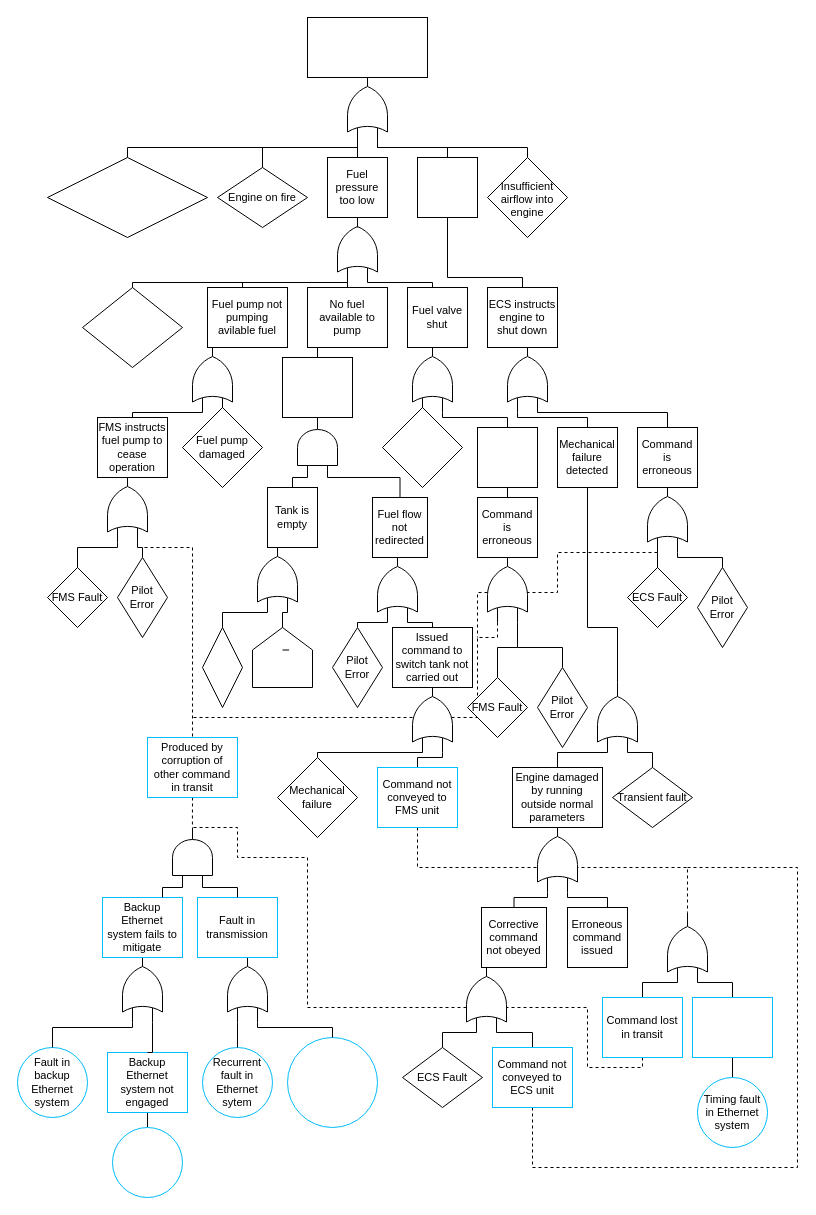
Some shapes in this 816 by 1215 pixel diagram are drawn without their labels. Each missing label, with the box of its shape:
All fuel in tank consumed: (252, 626, 312, 688)
Command still in Ethernet buffer: (692, 996, 772, 1058)
Comms fault undetected: (112, 1126, 182, 1198)
Engine initiates shutdown procedure: (416, 156, 478, 218)
Engine unexpectedly ceases function: (306, 16, 428, 78)
FMS instructs valve to close: (476, 426, 538, 488)
FMS routes engine to an empty tank: (282, 356, 352, 418)
Fuel line severed: (82, 286, 182, 368)
Fuel tank leak: (202, 626, 242, 708)
Mechanical damage renders engine inoperable: (46, 156, 208, 238)
Transient failure in current Ethernet route: (286, 1036, 378, 1128)
Valve failed closed: (382, 406, 462, 488)
